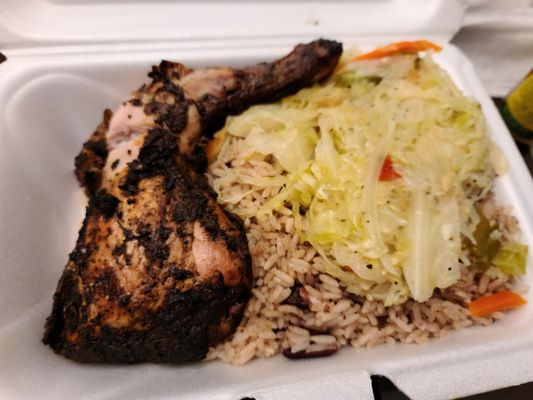sandwich: (370, 374, 415, 400)
